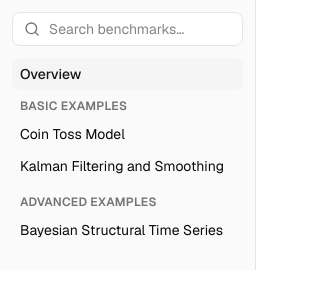
Scenario: Sidebar › filters by search over title and tags
The image size is (320, 287).
Type "time series" into the search field labelled "Search benchmarks…". click: (128, 29)
box: [12,12,243,46]
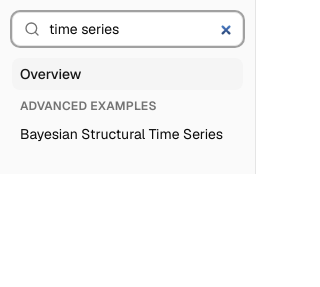
Expected: the button "Bayesian Structural Time Series" is shown, [12,118,243,150]
Now the button "Coin Toss Model" is gone
